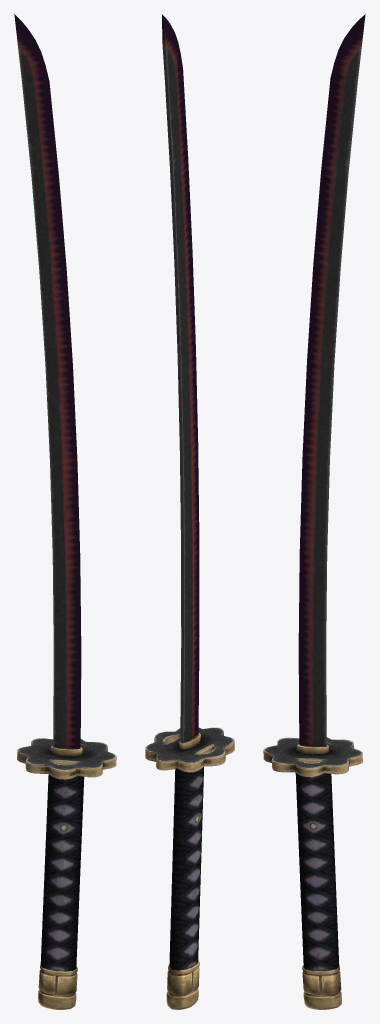
File: Shusui.fbx
3 renders of one model, left to right at view 1: azimuth 90°, elevation 25°; view 2: azimuth 150°, elevation 25°; view 3: azimuth 270°, elevation 25°, orthographic.
Visible parts, largest first — view 1: Shusui; view 2: Shusui; view 3: Shusui.
Boxes of the visible parts, <box> form: Shusui: <box>14,14,116,1009</box>; Shusui: <box>145,14,234,1009</box>; Shusui: <box>263,14,365,1009</box>.
Bounding box in the file's own units: 9 × 122 × 11.38.
Materials: 1 (1 with a texture image).
